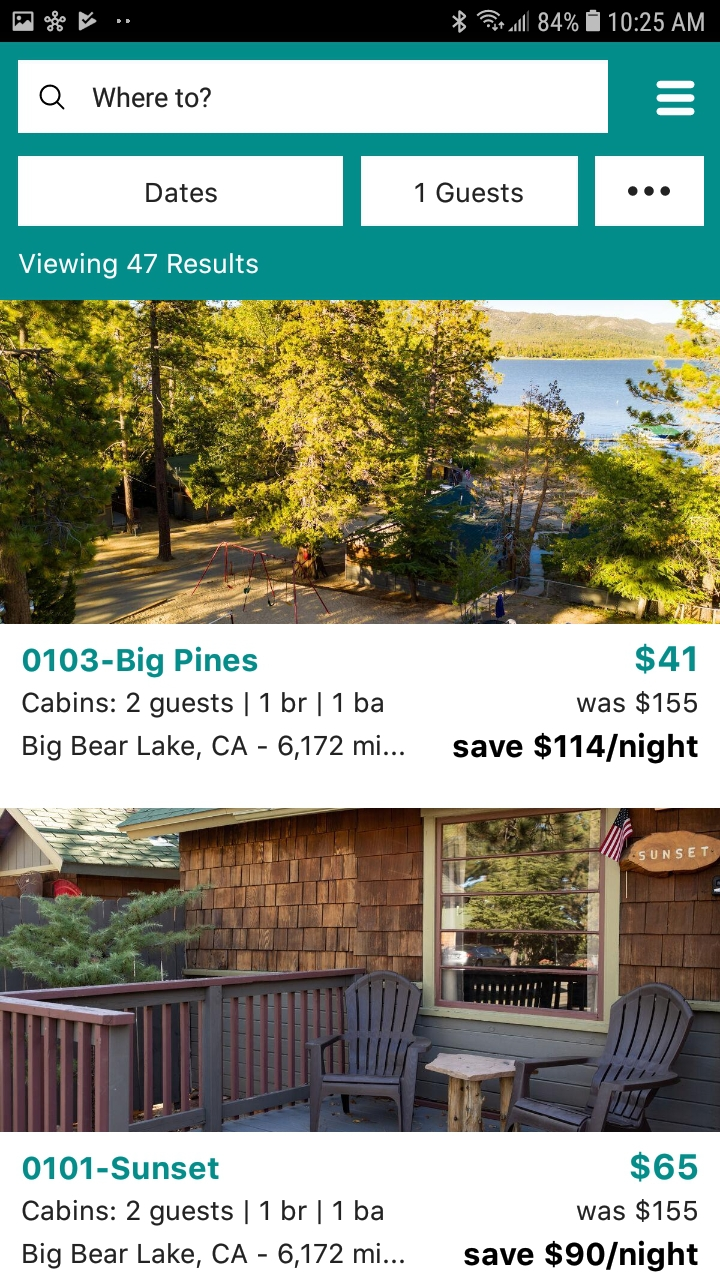EditText: (19, 61, 608, 134)
Icon: (656, 81, 695, 117), (40, 85, 66, 111)
Image: (1, 808, 720, 1132), (1, 301, 720, 624)
Text: (23, 692, 404, 762), (23, 1200, 404, 1269), (453, 732, 699, 765), (464, 1240, 699, 1272), (24, 647, 258, 678), (20, 253, 259, 280), (23, 1155, 220, 1180), (577, 1198, 698, 1223), (577, 691, 698, 715), (93, 87, 212, 109), (630, 1151, 698, 1183), (635, 644, 696, 675)
TextButton: (19, 157, 344, 227), (361, 157, 578, 227), (595, 157, 704, 227)
UpperTaskBar: (1, 1, 720, 43)
